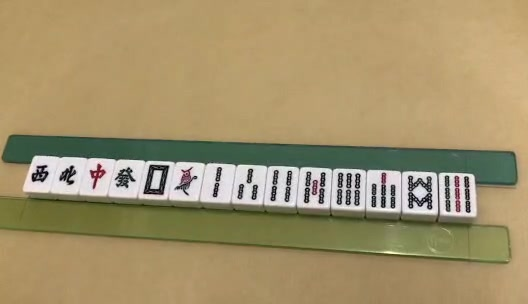1s: (175, 164, 196, 193)
2s: (210, 163, 222, 197)
3s: (238, 166, 259, 199)
3z: (30, 164, 49, 182)
4s: (271, 171, 291, 201)
4z: (59, 164, 77, 184)
5s: (303, 169, 326, 208)
5z: (145, 164, 168, 194)
6s: (336, 171, 361, 206)
6z: (112, 168, 132, 189)
7s: (370, 174, 396, 210)
7z: (92, 164, 106, 187)
8s: (407, 177, 432, 212)
9s: (444, 174, 472, 212)
